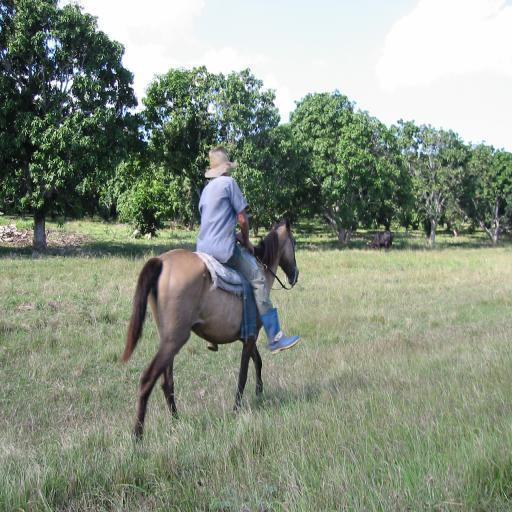Horse: (123, 217, 301, 447)
